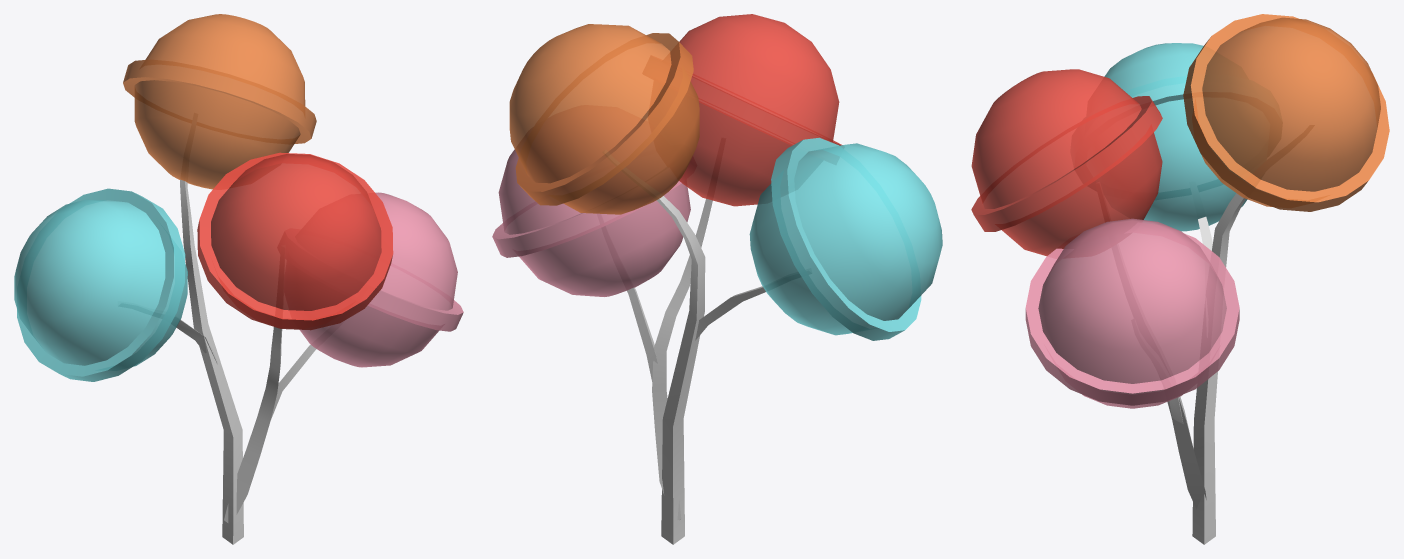
The model's file is lollipop-tree-2.glb.
3 views of the same model, side by side, from view 1: azimuth 30°, elevation 25°; view 2: azimuth 150°, elevation 25°; view 3: azimuth 270°, elevation 25° (orthographic). The views are drawn at different scales.
Visible parts, largest first — view 1: tree-2; view 2: tree-2; view 3: tree-2.
Boxes of the visible parts, x1,y1,x2,y2 form: tree-2: (14,14,463,544); tree-2: (492,14,942,544); tree-2: (971,14,1389,544).
Size of what is drawn, in the model's own units: 4.88 by 5.59 by 4.03.
